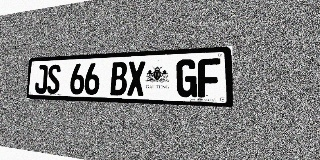6: (84, 63, 100, 95), (70, 63, 85, 95)
B: (110, 62, 127, 96)
F: (198, 58, 220, 98)
G: (176, 59, 197, 97)
J: (35, 65, 48, 94)
S: (47, 64, 61, 94)
X: (127, 61, 145, 96)
